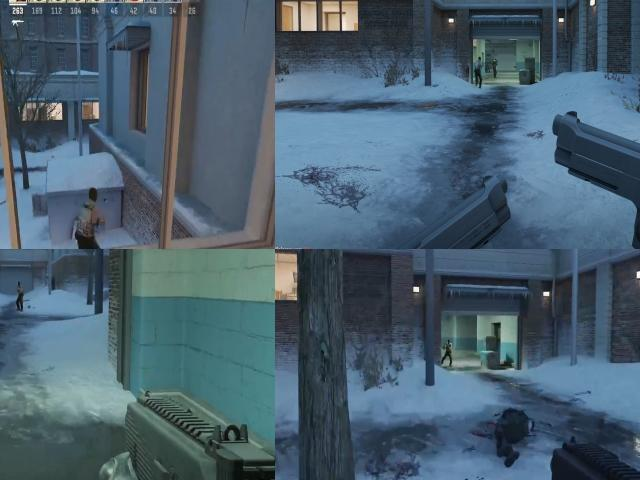CT: (492, 58, 498, 77)
CT-Head: (494, 59, 497, 61)
Dead: (486, 396, 538, 473)
T: (68, 181, 107, 245), (442, 338, 453, 362), (16, 279, 25, 302), (476, 56, 482, 85)
T-Head: (86, 187, 101, 210), (17, 280, 23, 290), (446, 339, 452, 346), (478, 57, 481, 61)
